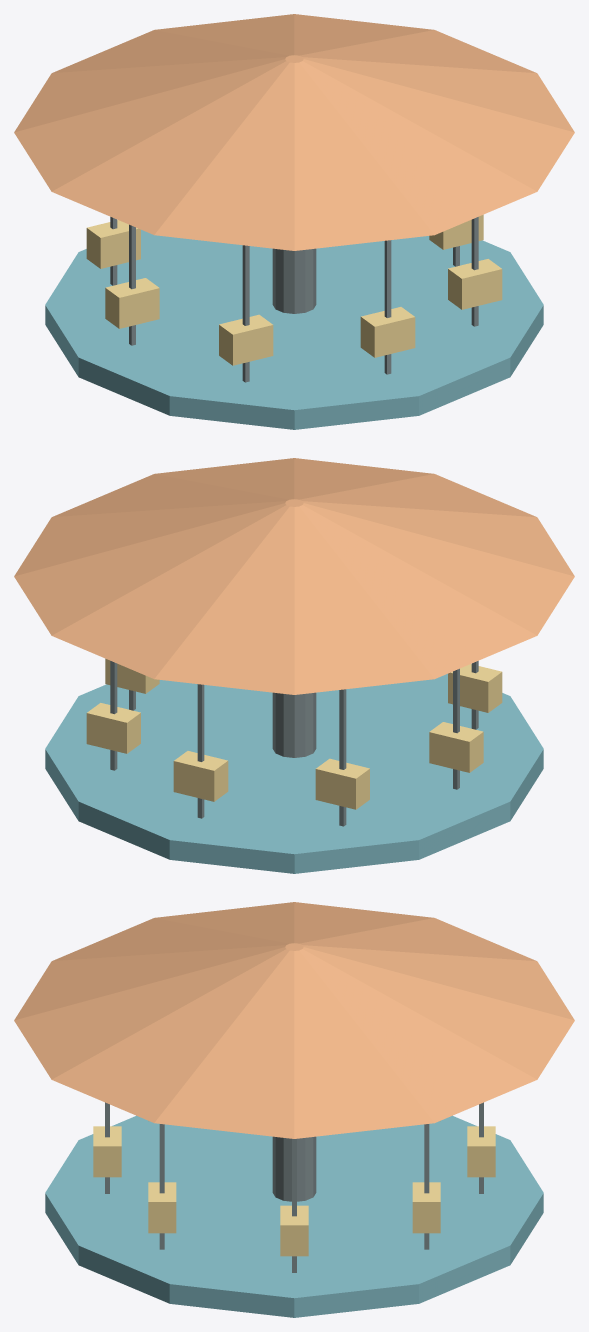
Rendered from carousel.glb.
3 views of the same model, one above another, from view 1: azimuth 30°, elevation 25°; view 2: azimuth 150°, elevation 25°; view 3: azimuth 270°, elevation 25° (orthographic).
Size of the model in its own units: 9 by 4.7 by 9.
